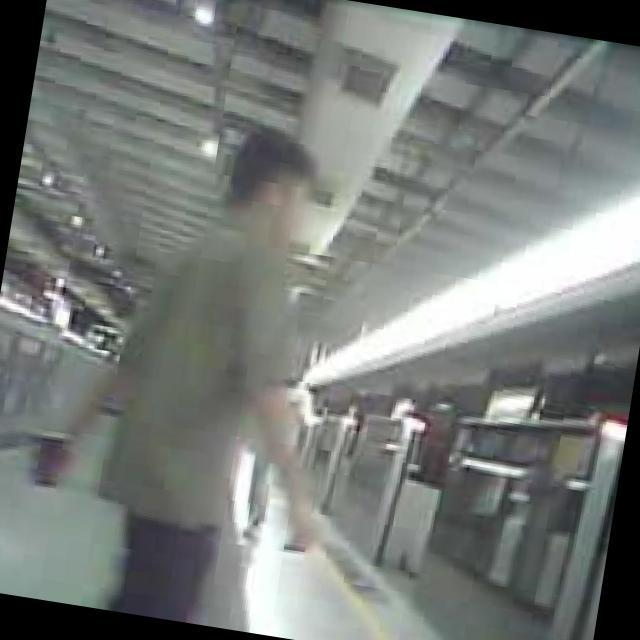person: (42, 102, 360, 638)
